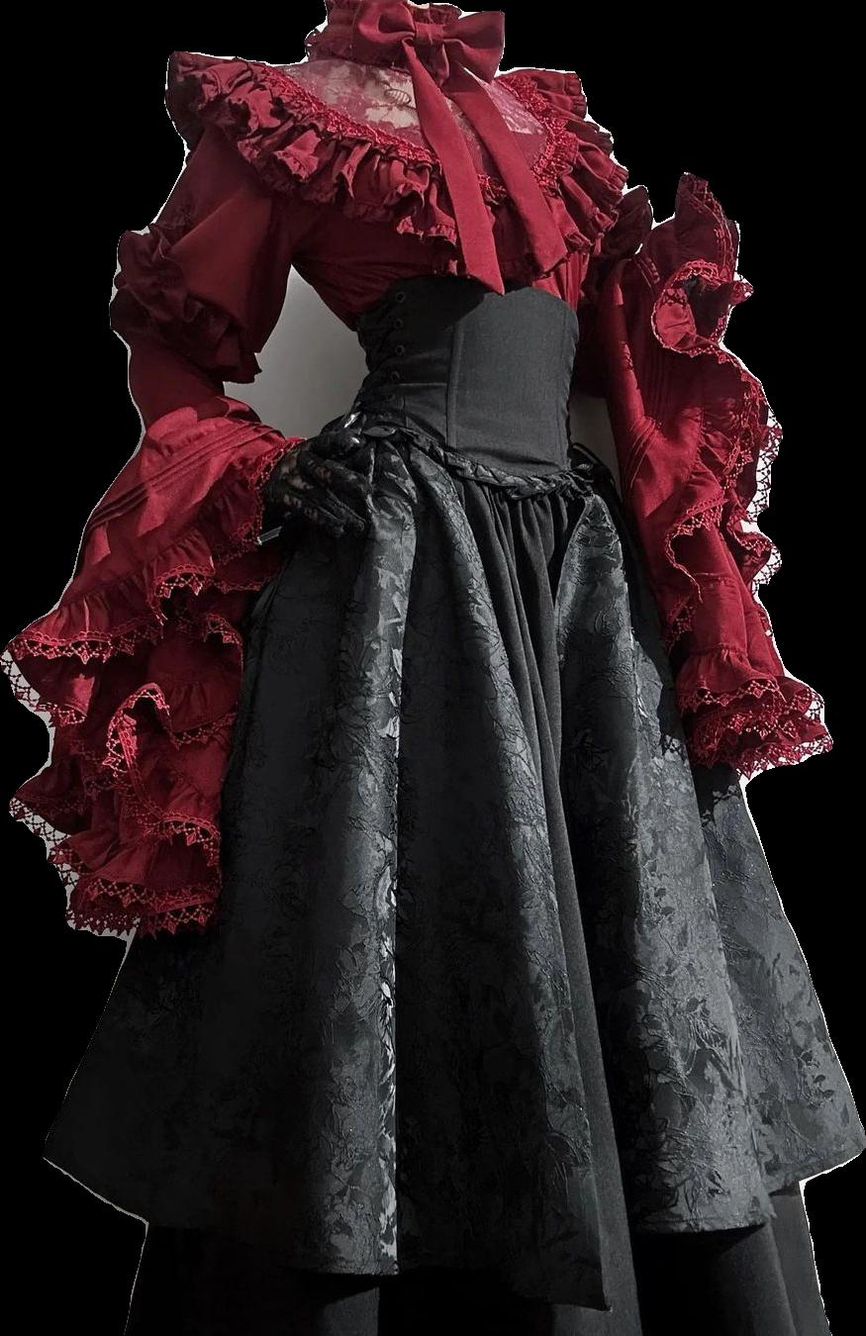Bodice: (166, 0, 631, 495)
Hemline: (44, 1132, 865, 1314), (122, 1317, 827, 1335)
Neckline: (275, 62, 562, 184), (340, 256, 594, 327), (327, 0, 468, 17)
Skirt: (45, 415, 865, 1335)
Sleeve: (0, 134, 338, 941)
Sleeveline: (195, 132, 304, 269), (124, 331, 230, 389), (140, 393, 245, 442)
Waistline: (162, 67, 633, 273), (338, 413, 582, 506)
